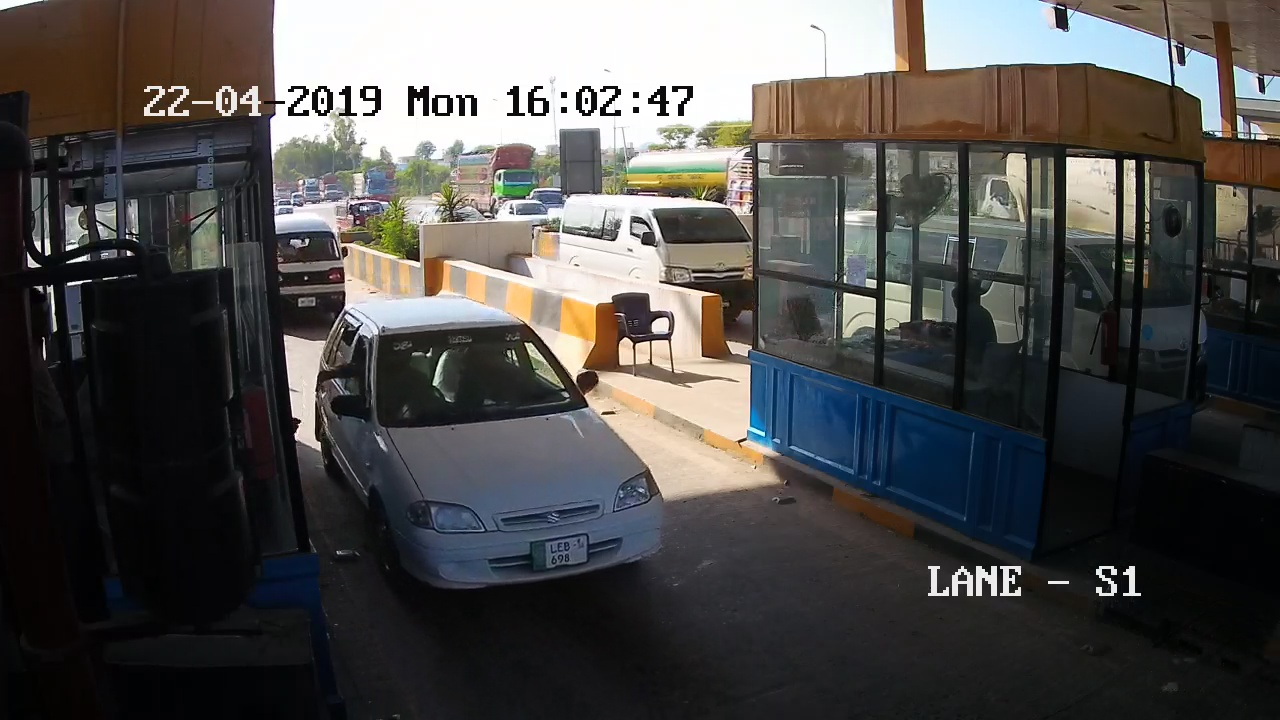Number Plate (Car): (531, 535, 590, 570)
